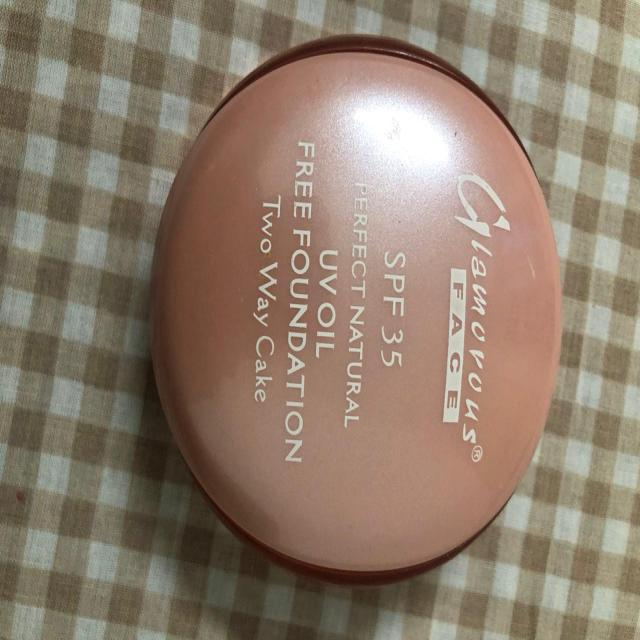foundation: (134, 47, 581, 552)
